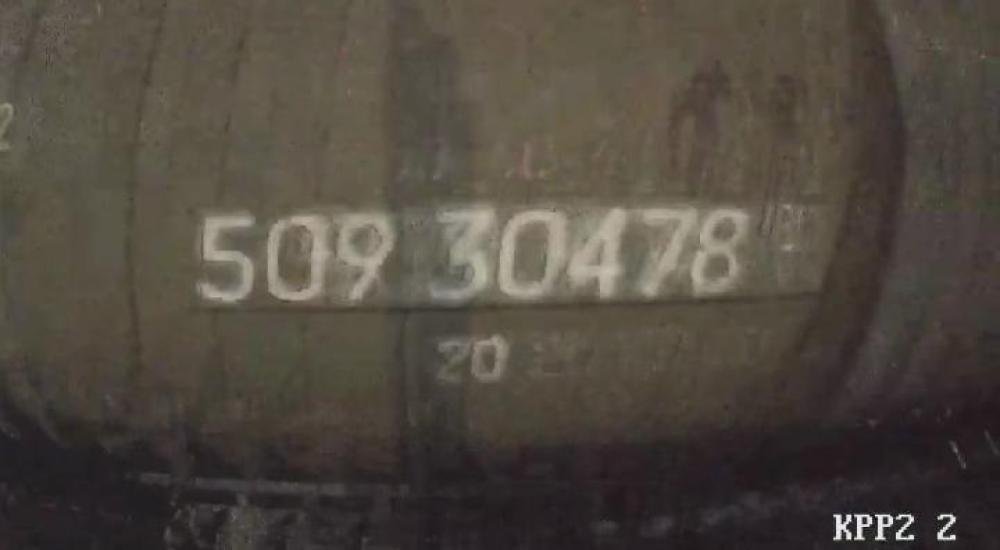Wagon-number: (193, 200, 756, 306)
